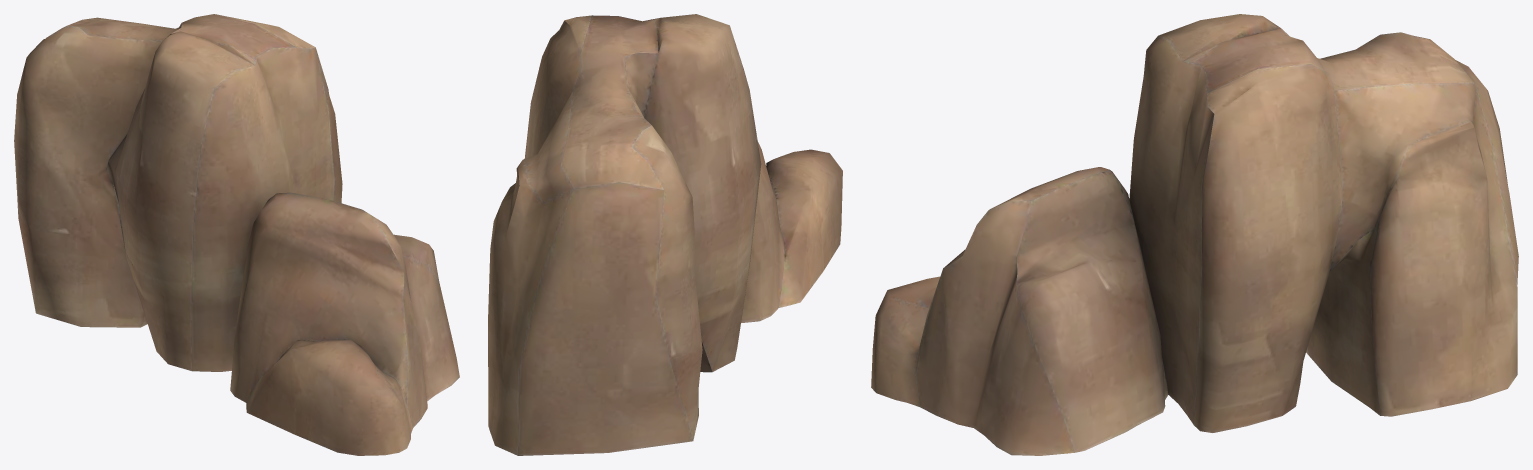
The picture shows the model from 3 angles, left to right: view 1: azimuth 30°, elevation 25°; view 2: azimuth 150°, elevation 25°; view 3: azimuth 270°, elevation 25°; orthographic projection. The views are drawn at different scales.
Parts seen in each view (by area): view 1: body0_model0_lod0_mesh0; view 2: body0_model0_lod0_mesh0; view 3: body0_model0_lod0_mesh0.
Boxes of the visible parts, x1,y1,x2,y2 form: body0_model0_lod0_mesh0: (14,14,459,455); body0_model0_lod0_mesh0: (488,14,842,455); body0_model0_lod0_mesh0: (871,14,1518,455).
Size of the model in its own units: 26.37 by 29.32 by 50.32.
1 material, 1 textured.
